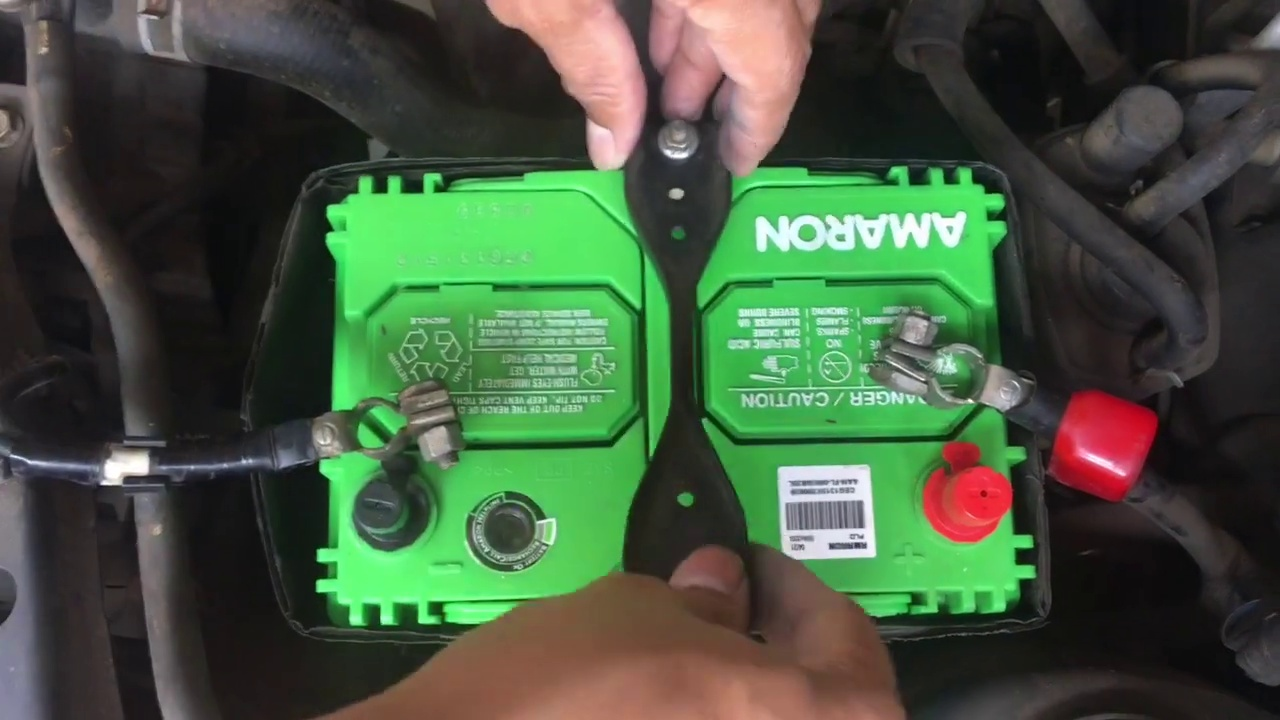battery: (301, 173, 1042, 614)
neg_disconnected: (291, 362, 469, 550)
pos_disconnected: (847, 305, 1168, 561)
